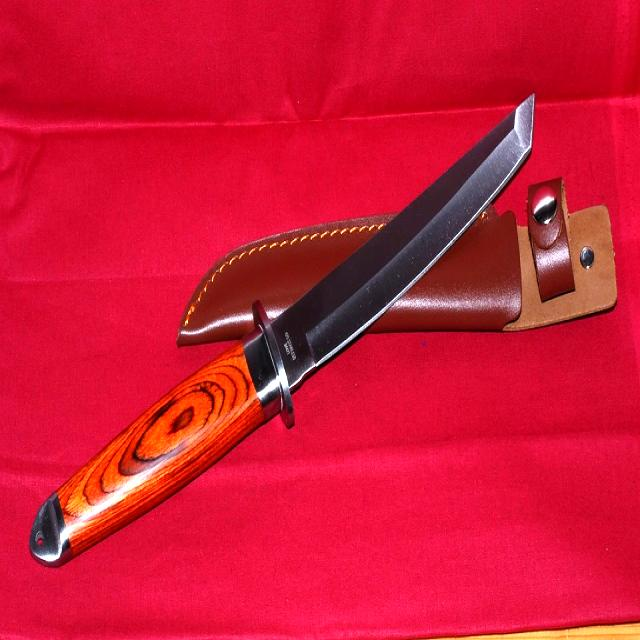short sword: (25, 76, 622, 578)
